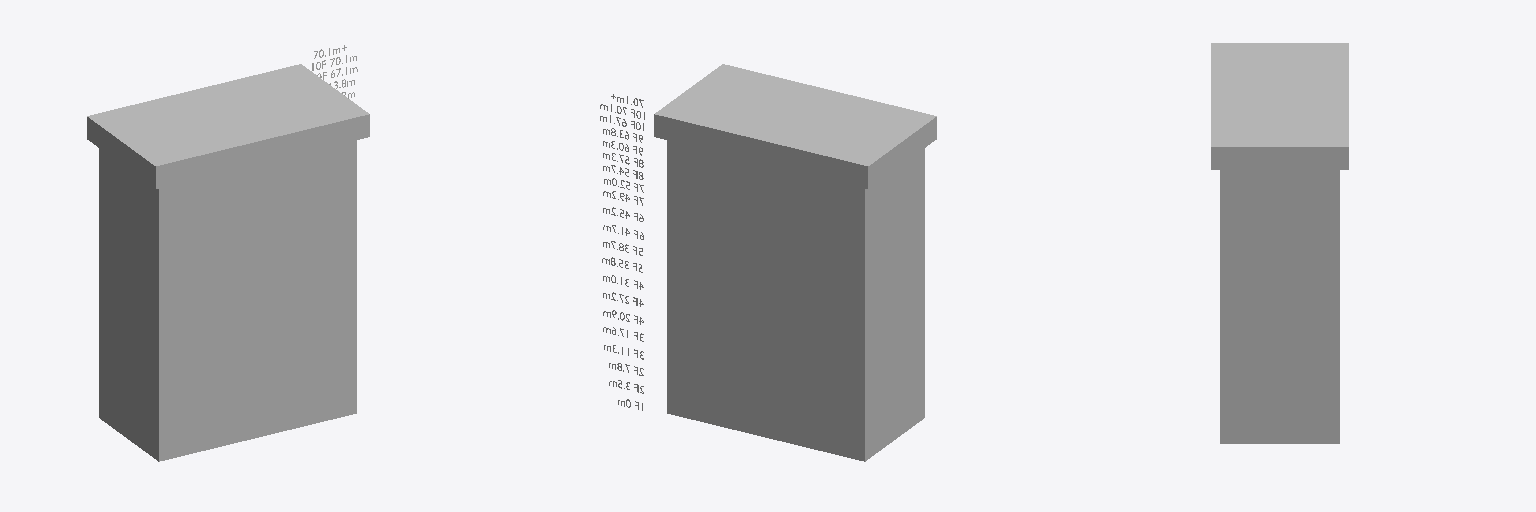
3 renders of one model, left to right at view 1: azimuth 30°, elevation 25°; view 2: azimuth 150°, elevation 25°; view 3: azimuth 270°, elevation 25°, orthographic.
Visible parts, largest first — view 1: 外层_Mesh.003, 楼层-10-2_Mesh.033, 楼层-10-1_Mesh.032, 楼层-5-2_Mesh.023, 楼层-5-1_Mesh.022; view 2: 外层_Mesh.003, 楼层-4-1_Mesh.019, 楼层-3-2_Mesh.017, 楼层-3-1_Mesh.015, 楼层2-1_Mesh.013, 楼层-2-2_Mesh.014, 楼层-4-2_Mesh.020, 楼层-4-3_Mesh.021, 楼层-6-2_Mesh.025, 楼层-1_Mesh.005, 楼层-6-1_Mesh.024, 楼层-5-1_Mesh.022 (+9 smaller); view 3: 外层_Mesh.003, 楼层-2-2_Mesh.014, 楼层-4-3_Mesh.021, 楼层-3-1_Mesh.015, 楼层-7-1_Mesh.026, 楼层-4-1_Mesh.019, 楼层-10-2_Mesh.033, 楼层-9-1_Mesh.030, 楼层-9-2_Mesh.031.
Boxes of the visible parts, x1,y1,x2,y2 form: 外层_Mesh.003: [87, 64, 369, 461]; 楼层-10-2_Mesh.033: [87, 64, 369, 177]; 楼层-10-1_Mesh.032: [87, 128, 369, 188]; 楼层-5-2_Mesh.023: [153, 251, 356, 306]; 楼层-5-1_Mesh.022: [153, 260, 356, 309]; 外层_Mesh.003: [654, 64, 936, 461]; 楼层-4-1_Mesh.019: [667, 311, 894, 375]; 楼层-3-2_Mesh.017: [667, 328, 885, 392]; 楼层-3-1_Mesh.015: [667, 345, 878, 409]; 楼层2-1_Mesh.013: [667, 380, 876, 444]; 楼层-2-2_Mesh.014: [667, 362, 881, 427]; 楼层-4-2_Mesh.020: [667, 294, 884, 358]; 楼层-4-3_Mesh.021: [667, 277, 864, 341]; 楼层-6-2_Mesh.025: [667, 209, 864, 273]; 楼层-1_Mesh.005: [667, 397, 919, 461]; 楼层-6-1_Mesh.024: [667, 226, 864, 290]; 楼层-5-1_Mesh.022: [667, 260, 924, 324]; 外层_Mesh.003: [1211, 43, 1348, 443]; 楼层-2-2_Mesh.014: [1220, 393, 1339, 409]; 楼层-4-3_Mesh.021: [1220, 307, 1339, 323]; 楼层-3-1_Mesh.015: [1220, 376, 1339, 392]; 楼层-7-1_Mesh.026: [1220, 227, 1339, 238]; 楼层-4-1_Mesh.019: [1220, 342, 1339, 358]; 楼层-10-2_Mesh.033: [1211, 91, 1348, 158]; 楼层-9-1_Mesh.030: [1220, 177, 1339, 189]; 楼层-9-2_Mesh.031: [1220, 170, 1339, 176].
Size of the model in its own units: 103 by 116 by 45.63.